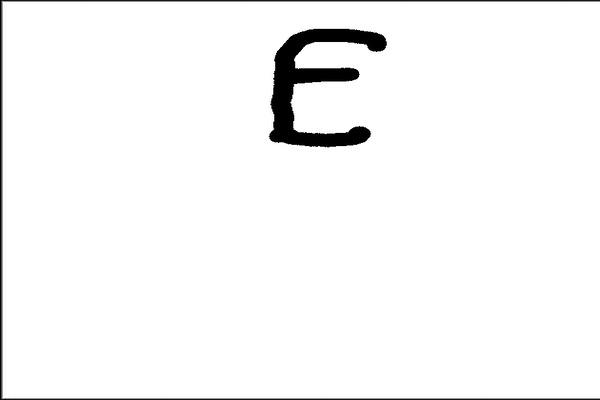E: (264, 24, 392, 150)
